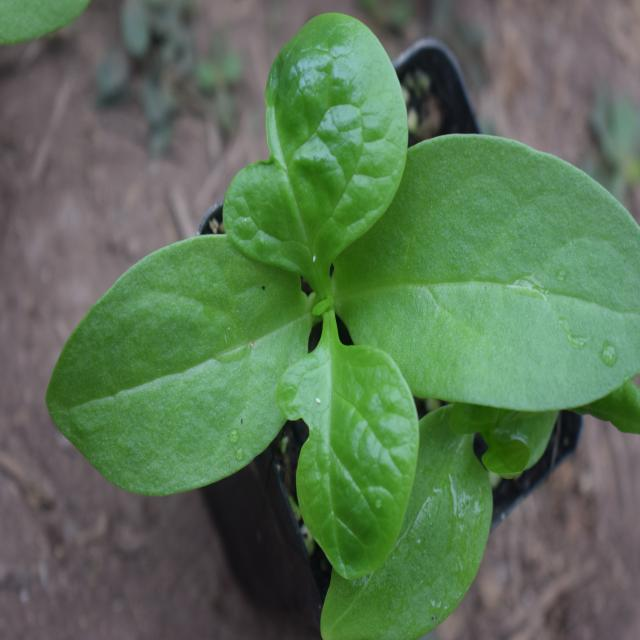Ceylon spinach: (66, 17, 632, 578)
